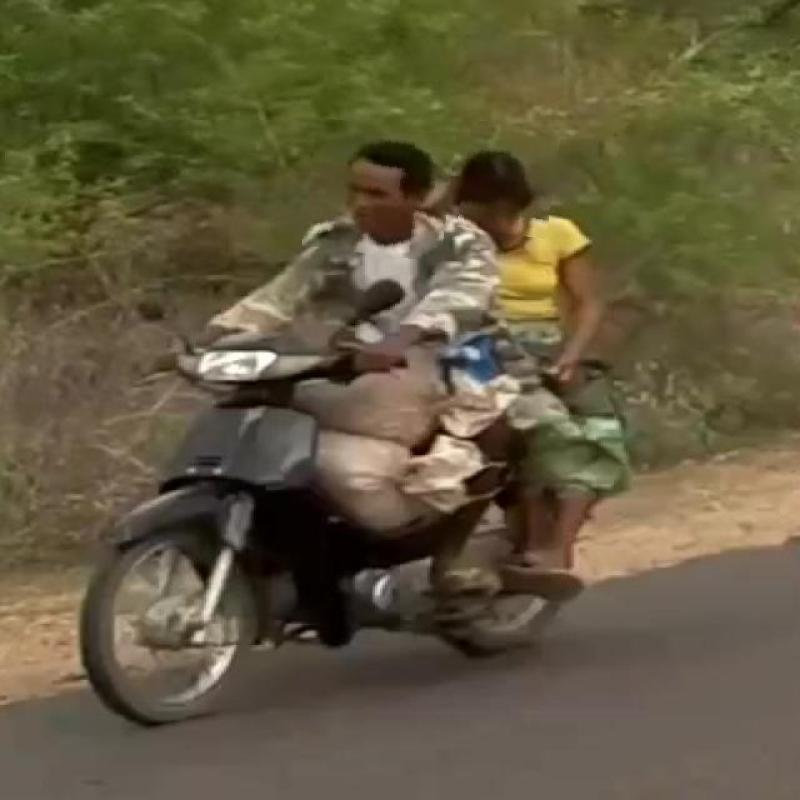nohelmet: (306, 121, 453, 258), (461, 124, 558, 237)
